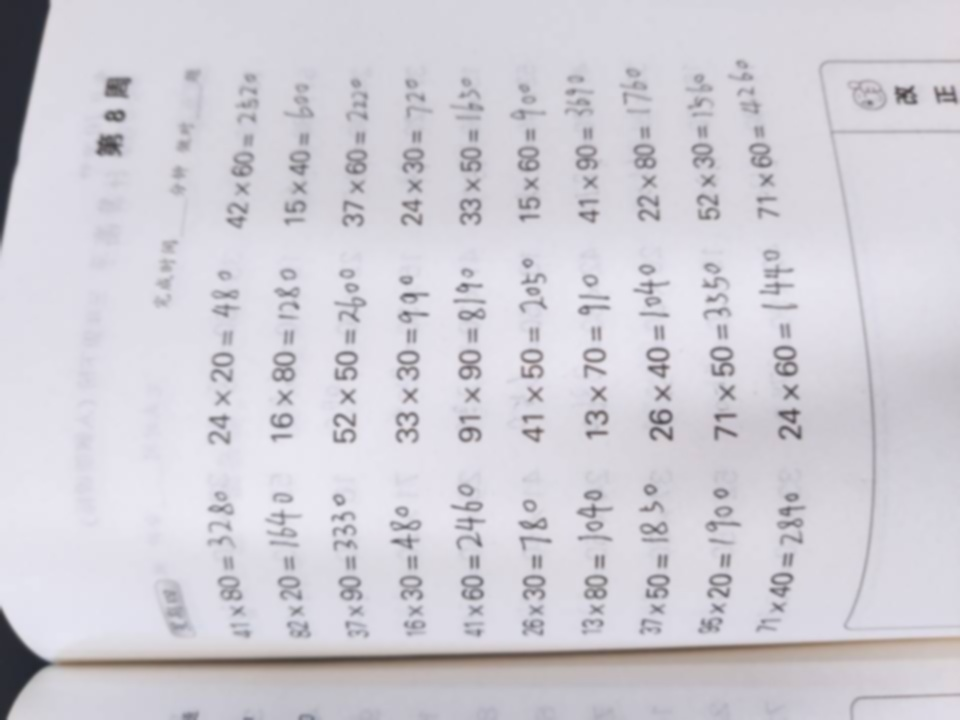equation: (726, 27, 792, 232), (750, 244, 815, 445), (197, 468, 259, 650), (257, 466, 319, 648), (375, 466, 437, 648), (313, 467, 375, 649), (561, 463, 623, 645), (499, 463, 561, 645), (435, 465, 497, 647), (684, 460, 746, 642), (621, 463, 683, 645), (752, 461, 814, 643), (678, 35, 727, 238), (203, 249, 248, 454), (387, 253, 432, 458), (328, 244, 373, 449), (262, 245, 307, 450), (636, 246, 681, 451), (572, 258, 617, 463), (510, 243, 555, 448), (446, 245, 491, 450), (699, 242, 744, 447), (336, 38, 381, 243), (277, 42, 322, 247), (221, 39, 266, 244), (507, 33, 552, 238), (447, 38, 492, 243), (391, 32, 436, 237), (618, 33, 663, 238), (561, 35, 606, 240)
